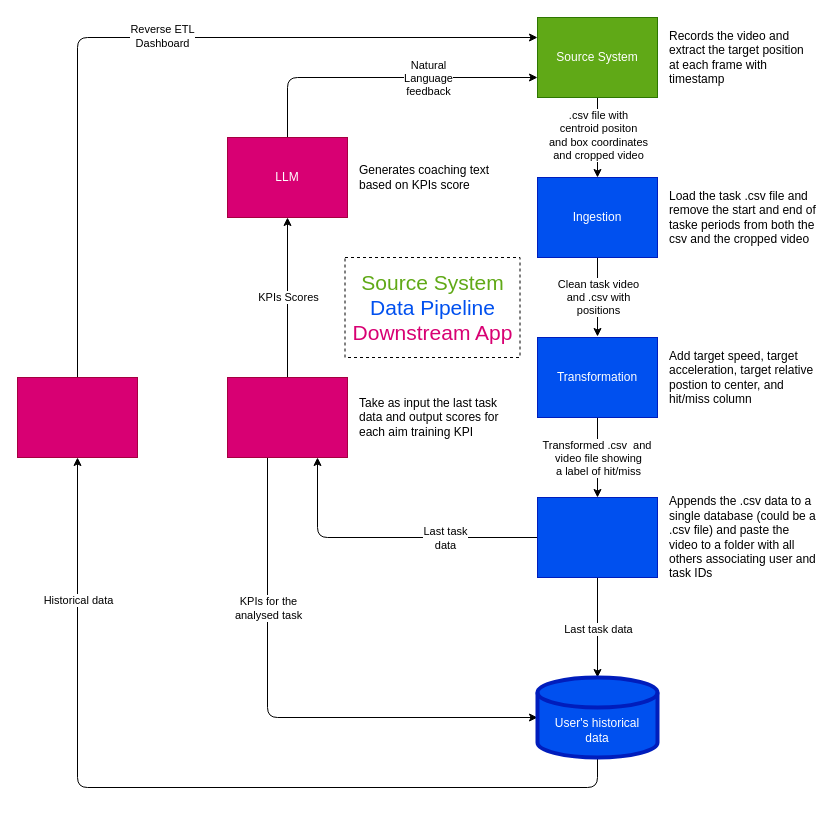
This 835x813 diagram has some shape labels left out. Each missing label, with the centre of its shape:
"AI model" goes at (287,417).
"Historical data analytics" goes at (77,417).
"Serving" goes at (597,537).
